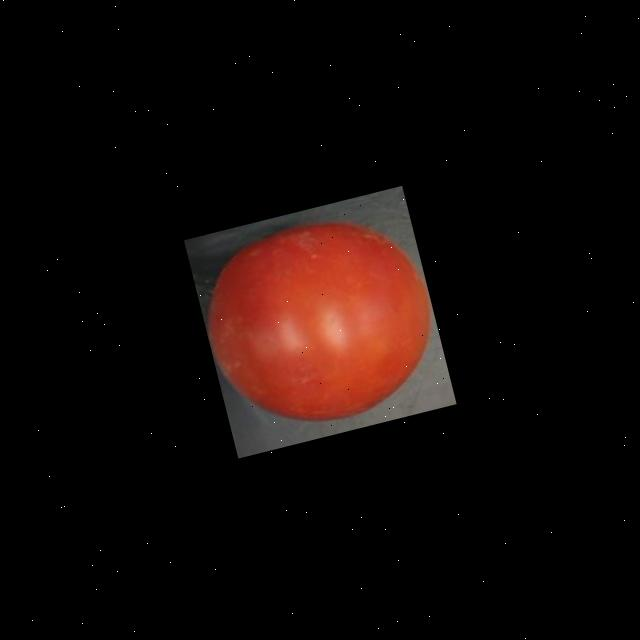tomato: (186, 194, 454, 446)
